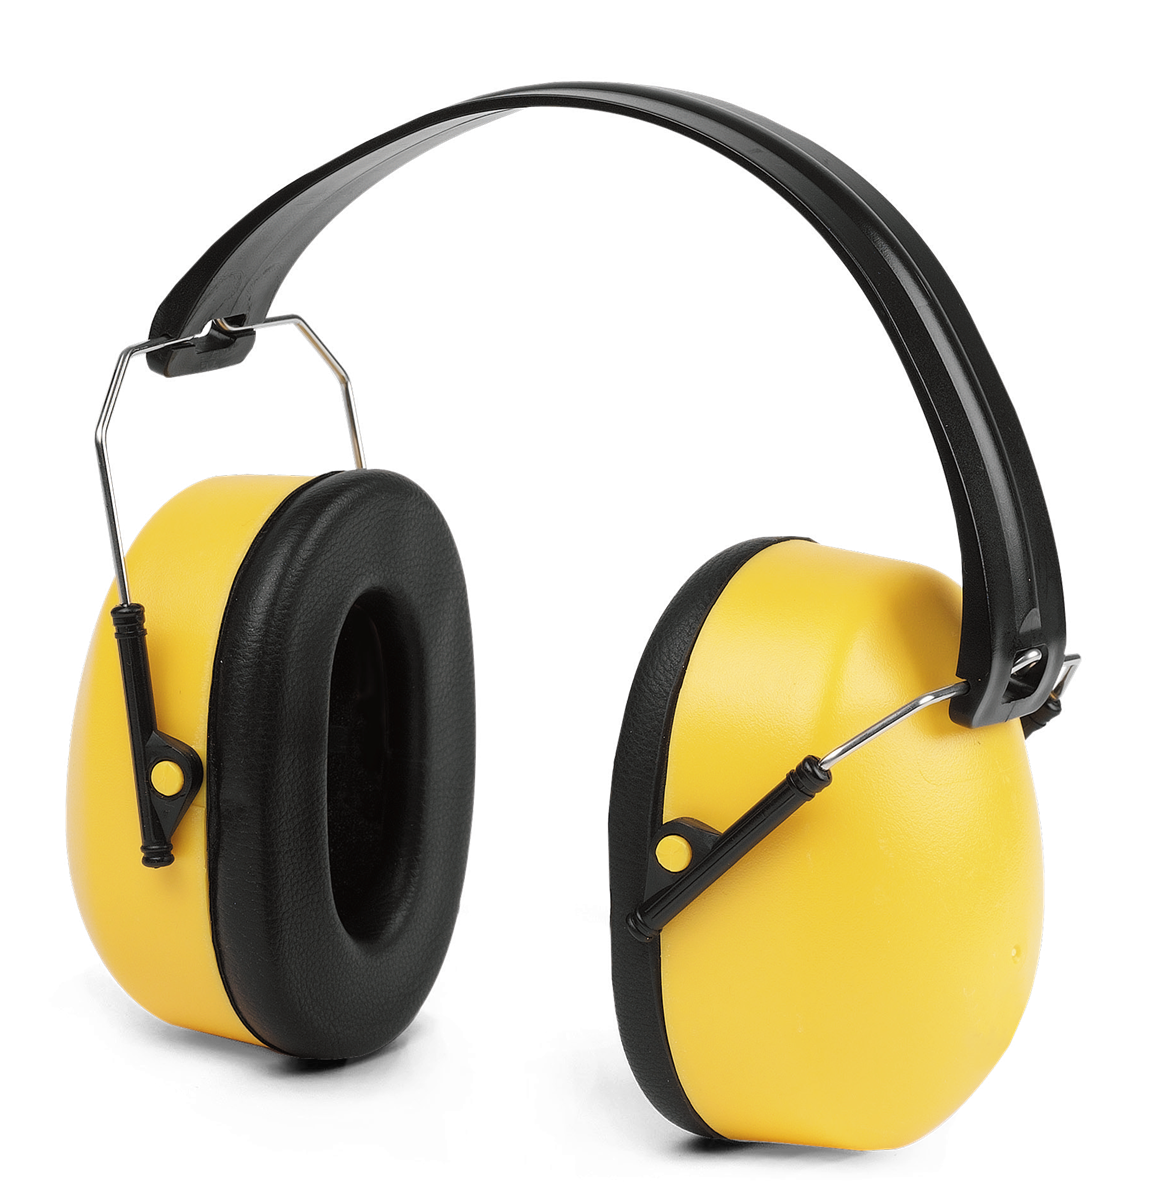headphone: (81, 73, 1154, 1184)
